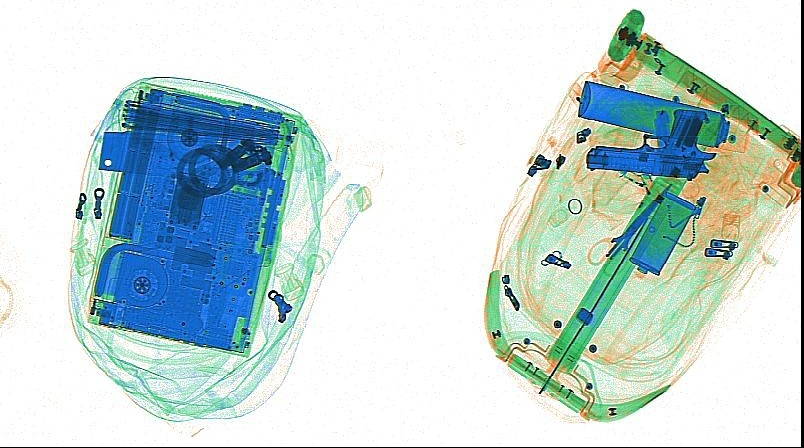handcuffs: (172, 136, 272, 200)
knife: (96, 124, 285, 193), (652, 109, 672, 177)
pressure: (576, 80, 755, 152)
scissors: (586, 182, 674, 277)
zippooil: (628, 190, 698, 275)
